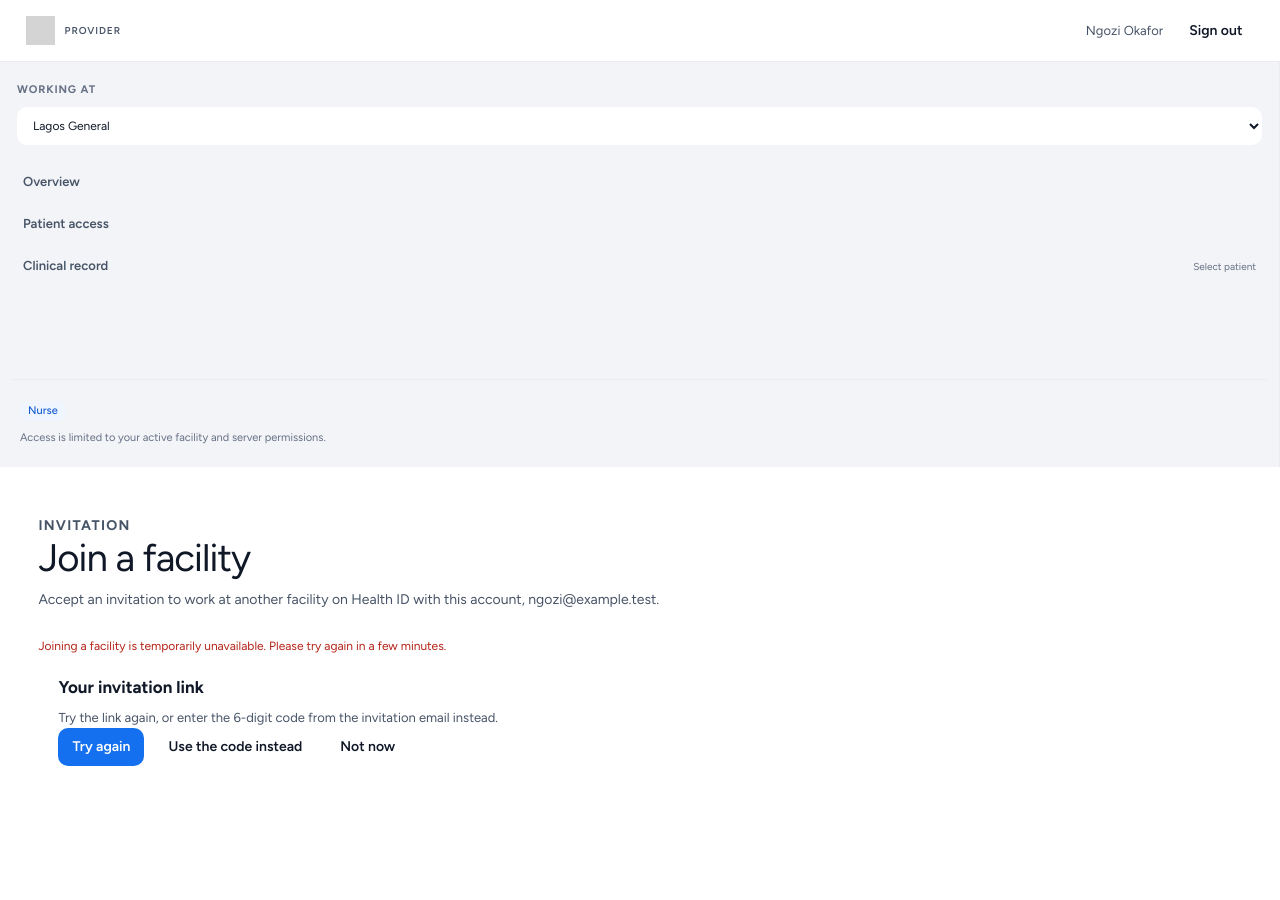
it: joining signed in › after no answer (the gateway’s 503), offers to try the held link again, which then previews it
Expected: the message shows "Joining a facility is temporarily unavailable. Please try again in a few minutes.", [38, 639, 446, 653]
Expected: the button "Use the code instead" is shown, [154, 728, 316, 766]
Click the button "Try again".
click(101, 747)  # box [58, 728, 144, 766]
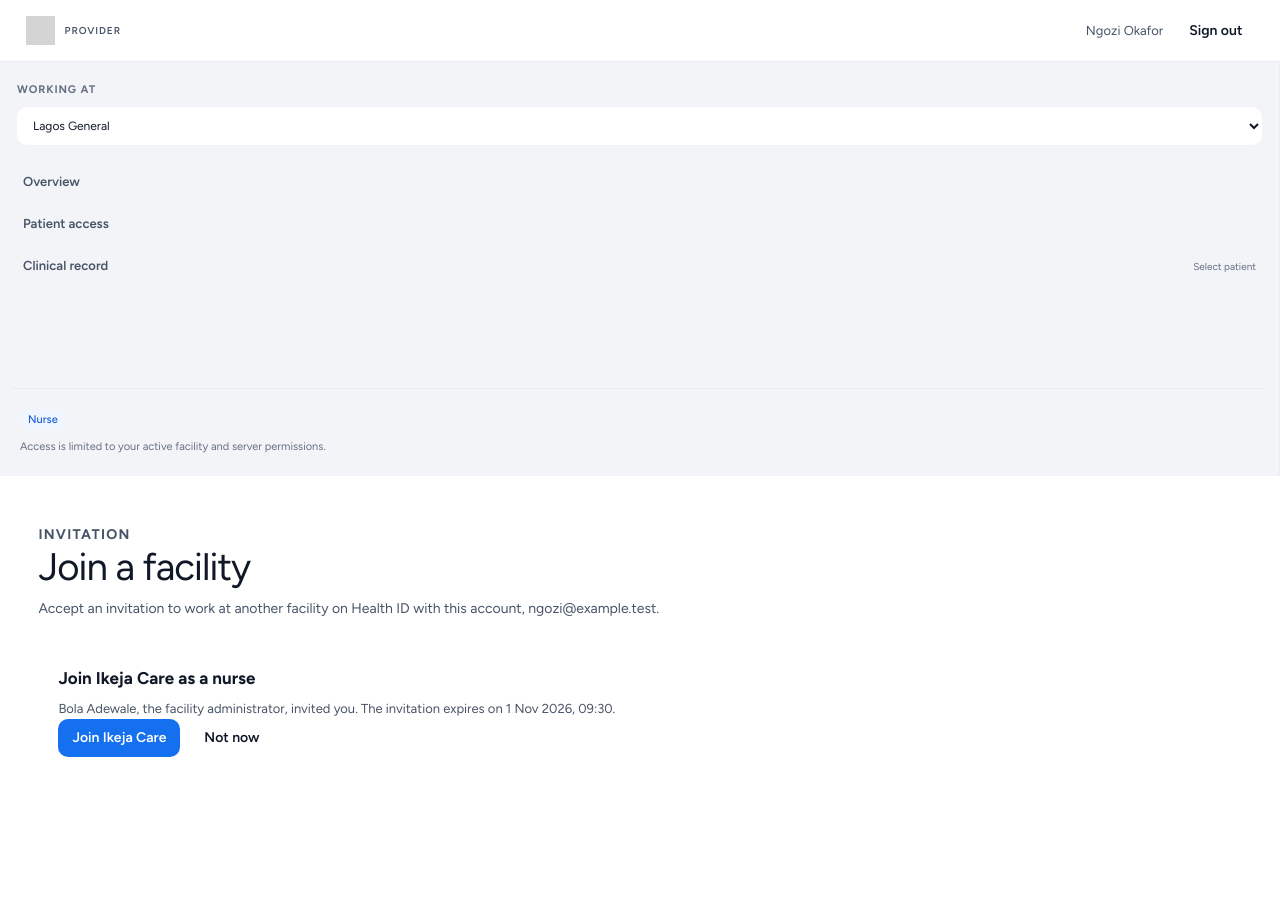
Now the heading "Join Ikeja Care as a nurse" is shown, box [58, 668, 255, 688]
Now the message is gone
